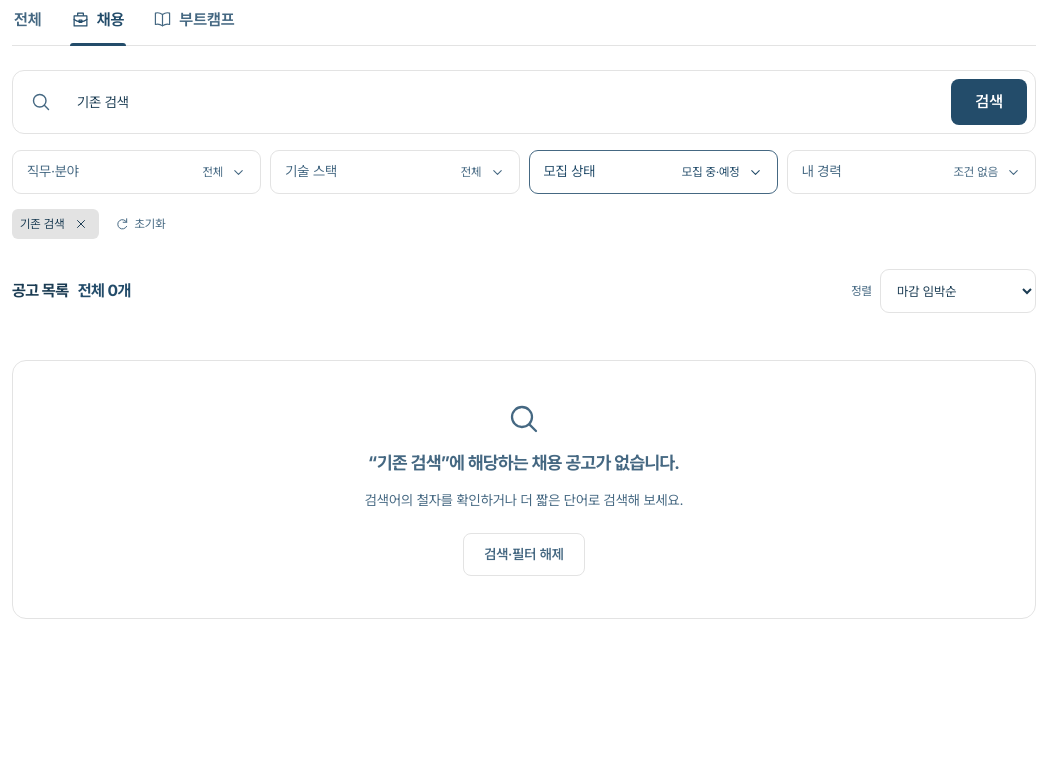
Test: 제출 전 검색어는 다른 필터 선택의 조회 조건과 적용 요약에 섞이지 않는다
This screenshot has width=1048, height=768.
Replace the text in the field named "공고 검색어" with "아직 제출하지 않은 검색" at {"x": 501, "y": 102}, box x1=63 y1=80 x2=939 y2=124
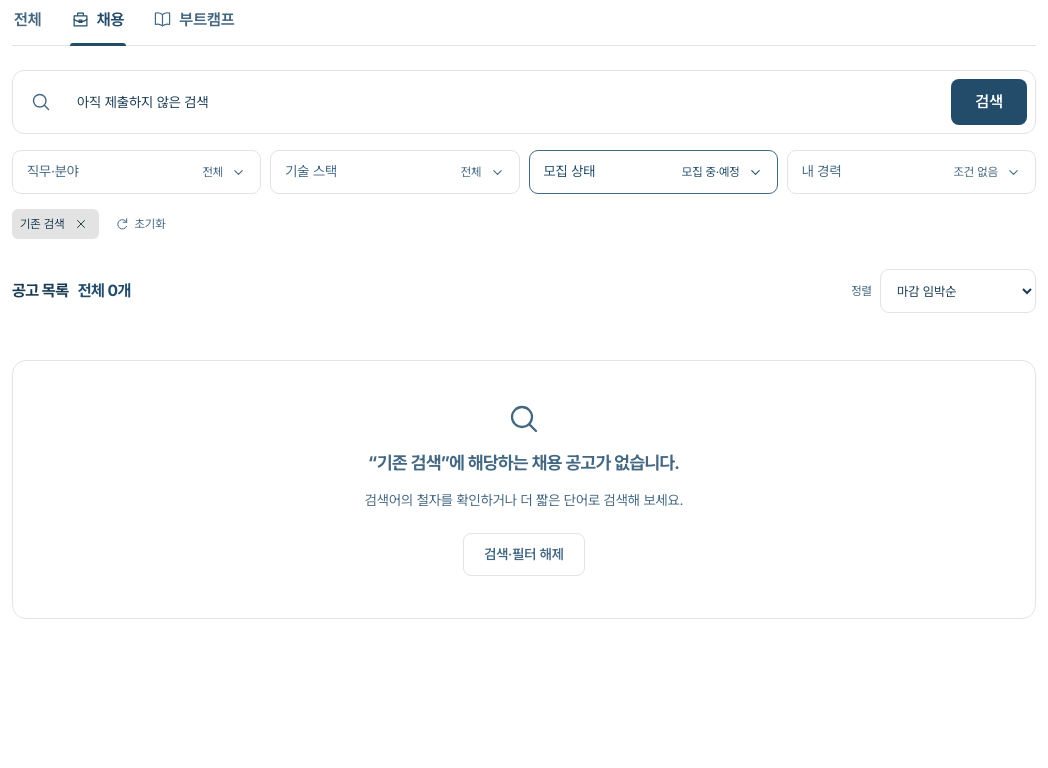
Expected: the element with class "active-filters" shows "기존 검색", x1=20 y1=217 x2=64 y2=231
Expected: the element with class "active-filters" does not show "아직 제출하지 않은 검색"
Click the button with aria-label "기술 스택" at {"x": 395, "y": 172}, box x1=270 y1=150 x2=520 y2=194
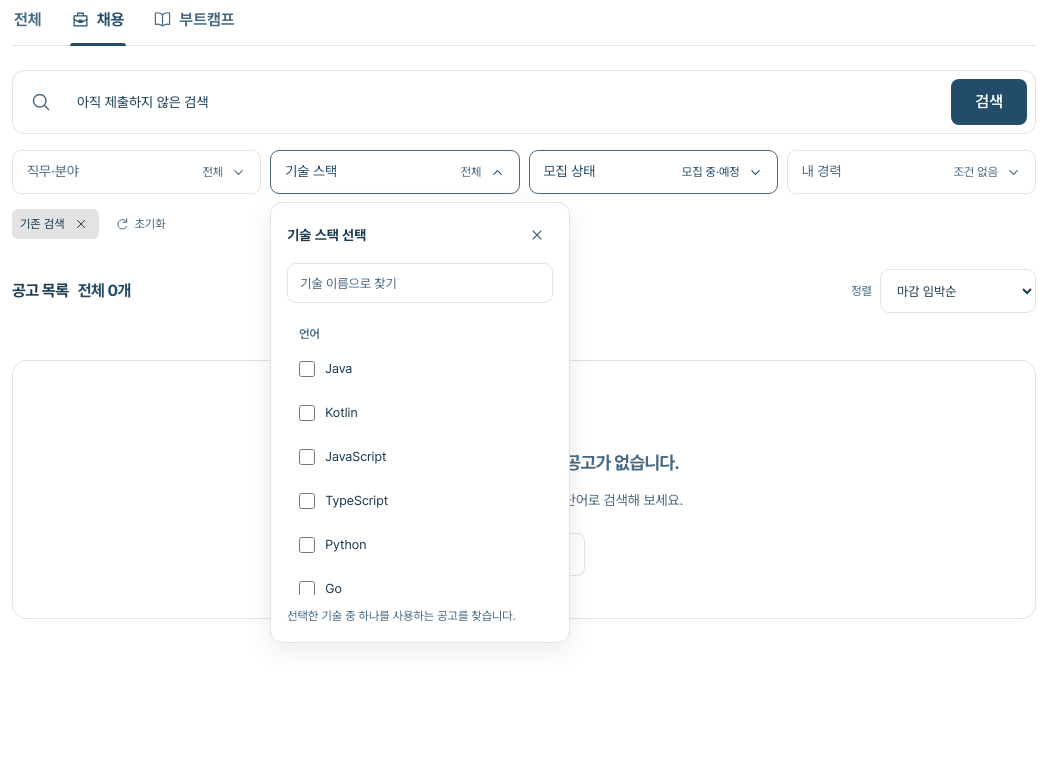
Click the checkbox labelled "Java" at {"x": 307, "y": 369}, box x1=299 y1=361 x2=315 y2=377
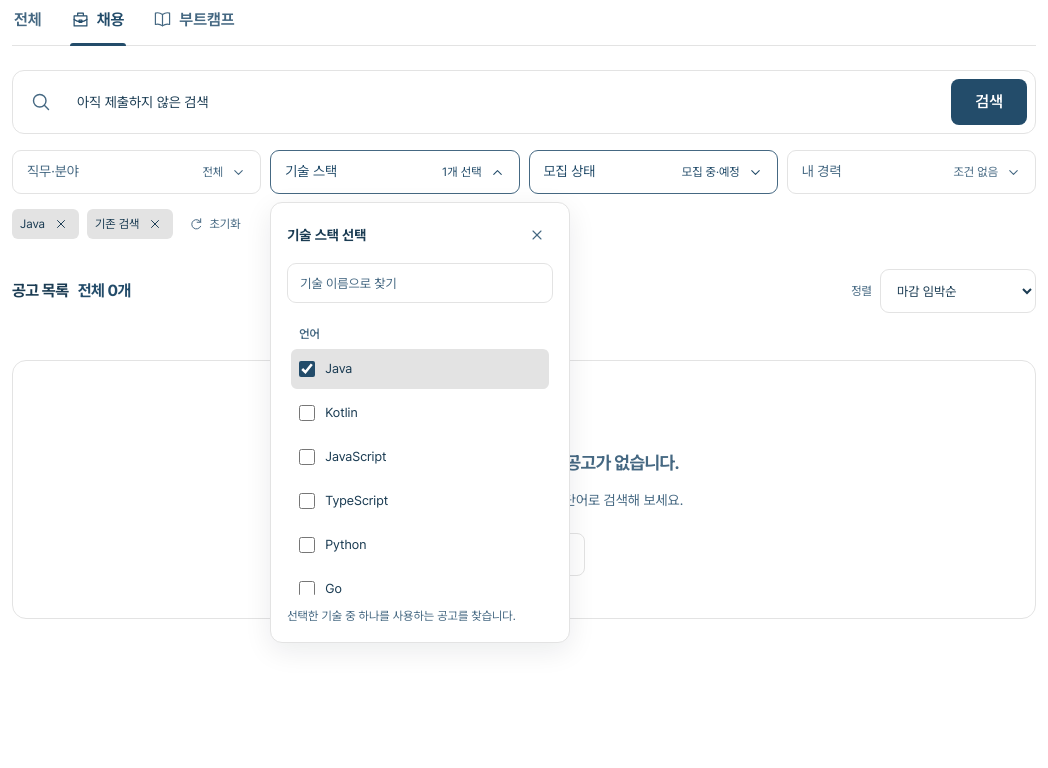
Submit the form with class "discovery-search", box x1=12 y1=70 x2=1036 y2=134
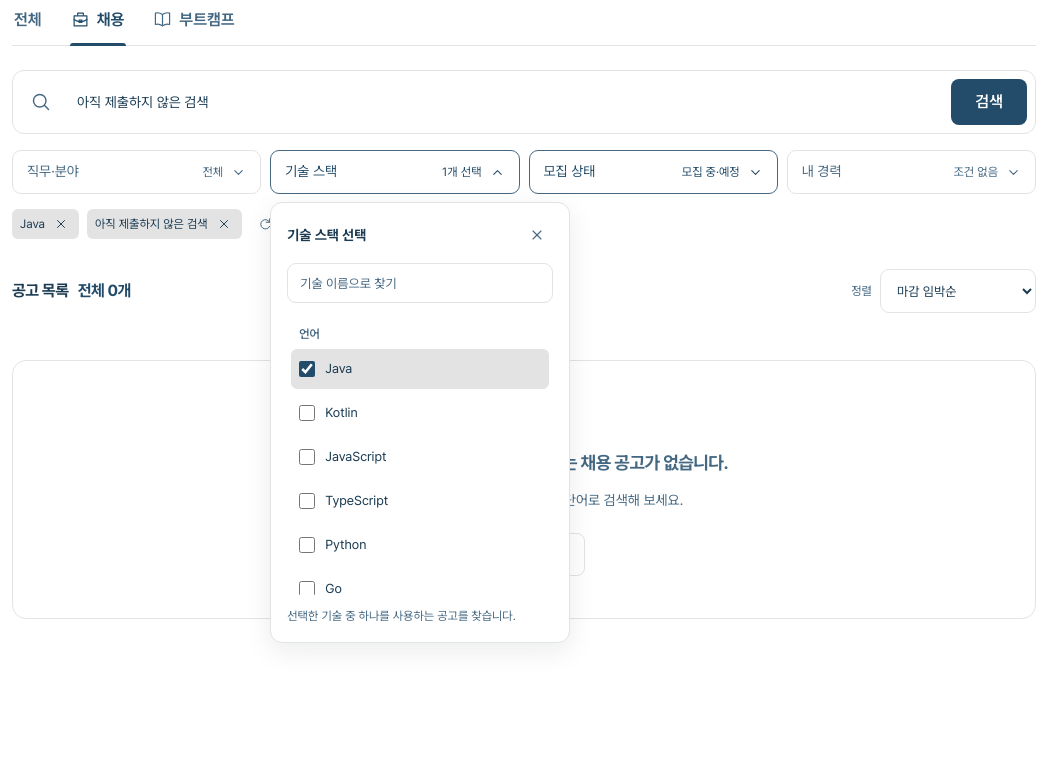
Expected: the element showing "아직 제출하지 않은 검색" is shown, x1=87 y1=209 x2=242 y2=239
Expected: the element with class "active-filters" shows "아직 제출하지 않은 검색", x1=95 y1=217 x2=208 y2=231
